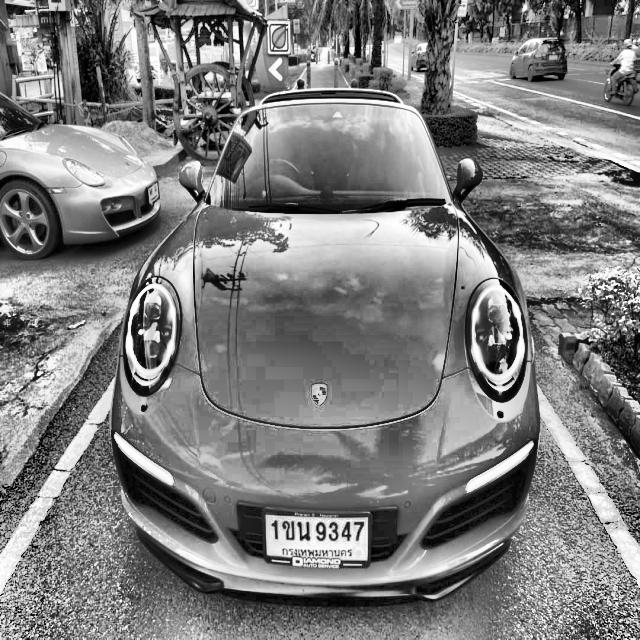license-plate: (255, 508, 378, 577)
